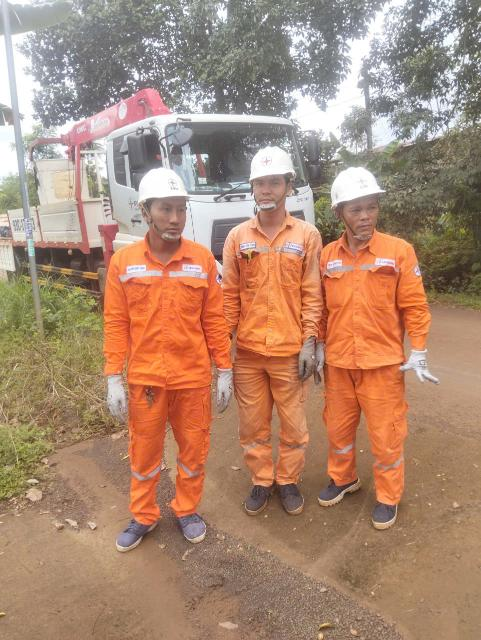gloves: (398, 341, 444, 391), (100, 366, 137, 421), (299, 332, 338, 379), (289, 332, 316, 381), (209, 365, 233, 410)
helmet: (127, 154, 206, 213), (323, 160, 392, 214), (241, 143, 300, 187)
shoes: (152, 502, 216, 546), (108, 508, 164, 554), (227, 472, 276, 516), (268, 474, 311, 522), (312, 469, 363, 509), (367, 484, 408, 533)
